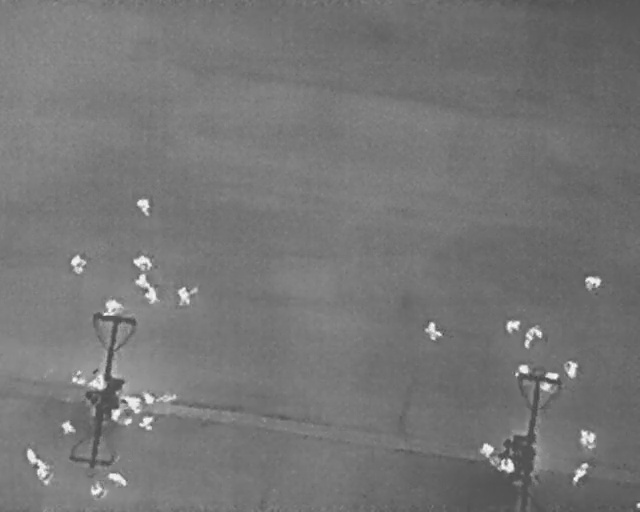Person: (518, 319, 547, 354), (535, 367, 563, 397), (567, 458, 594, 488), (106, 404, 133, 430), (104, 466, 132, 490), (121, 388, 146, 414), (421, 319, 446, 345), (175, 285, 198, 307), (102, 296, 125, 318), (21, 444, 42, 468), (577, 428, 598, 450), (35, 463, 53, 486), (477, 439, 496, 459), (583, 274, 603, 292), (69, 253, 86, 274), (132, 254, 153, 271), (137, 415, 156, 432), (143, 287, 160, 305), (134, 273, 152, 289), (136, 197, 150, 217), (70, 370, 87, 386), (504, 318, 521, 334), (89, 481, 104, 499), (564, 360, 578, 379), (88, 374, 105, 389), (60, 420, 77, 435), (515, 362, 529, 379), (501, 458, 516, 473), (142, 391, 154, 404)
